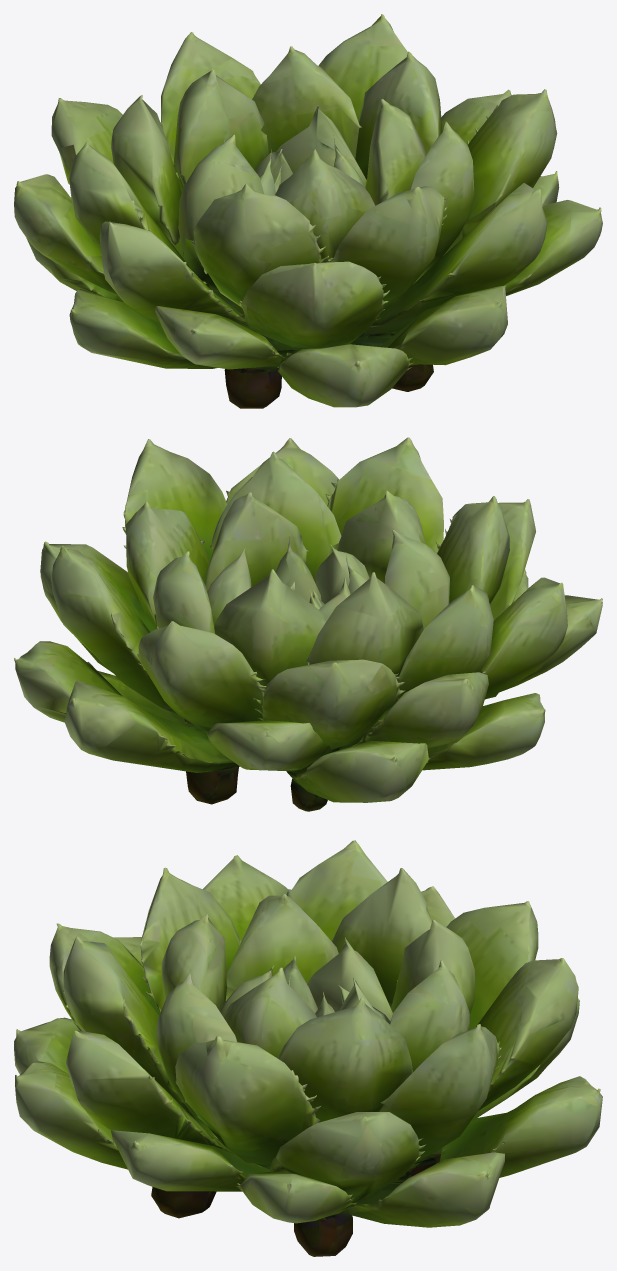
The model's file is YuLuCao.glb.
3 renders of one model, top to bottom at view 1: azimuth 30°, elevation 25°; view 2: azimuth 150°, elevation 25°; view 3: azimuth 270°, elevation 25°, orthographic. The views are drawn at different scales.
Visible parts, largest first — view 1: tripo_node_ba530b0d-99f6-4c25-baa4-3e401f5fc320; view 2: tripo_node_ba530b0d-99f6-4c25-baa4-3e401f5fc320; view 3: tripo_node_ba530b0d-99f6-4c25-baa4-3e401f5fc320.
Part boxes in pixels (x1,y1,x2,y2): tripo_node_ba530b0d-99f6-4c25-baa4-3e401f5fc320: [14, 14, 602, 408]; tripo_node_ba530b0d-99f6-4c25-baa4-3e401f5fc320: [14, 437, 602, 811]; tripo_node_ba530b0d-99f6-4c25-baa4-3e401f5fc320: [14, 840, 602, 1256].
Bounding box in the file's own units: 0.9902 × 0.498 × 0.998.
Materials: 1 (1 with a texture image).
